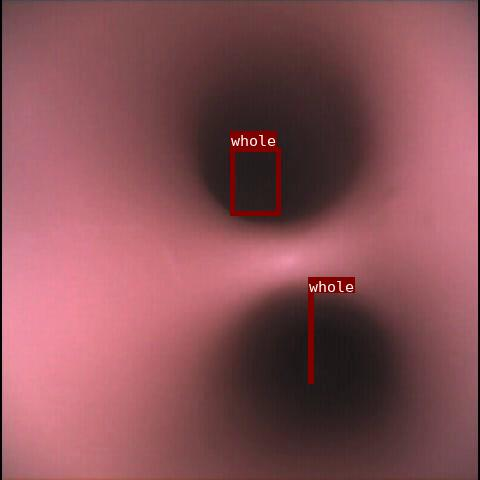whole: (230, 147, 280, 215), (308, 293, 313, 383)
